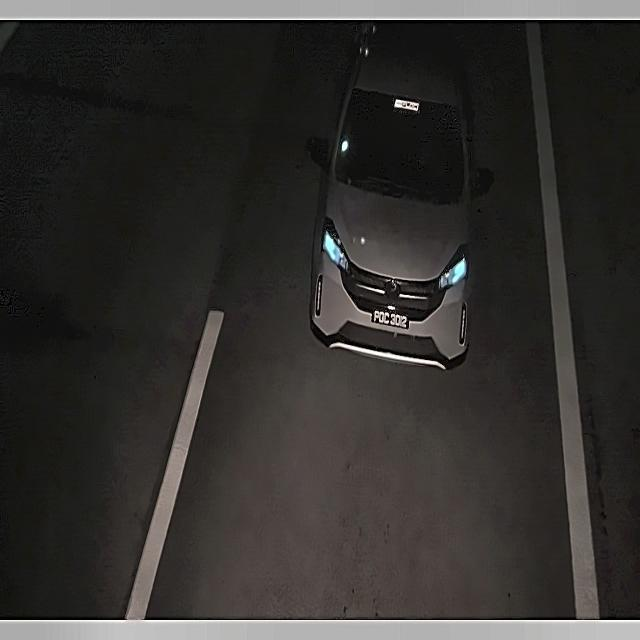car: (369, 305, 410, 336)
